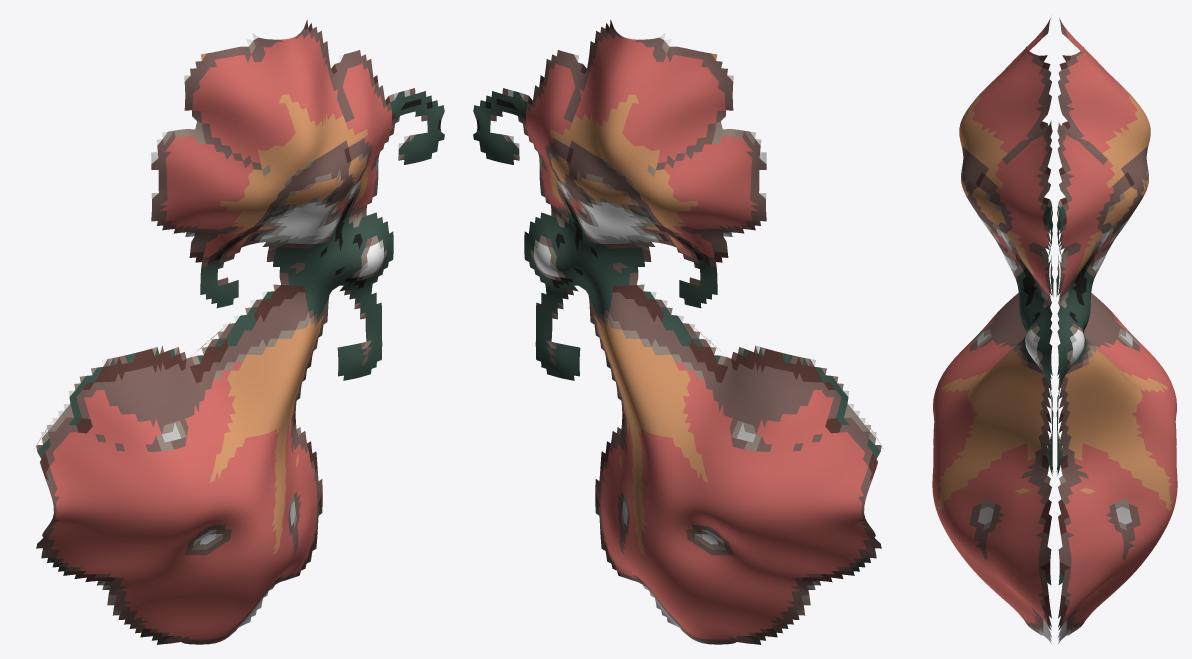
The model's file is trumpetcreeper.glb.
3 renders of one model, left to right at view 1: azimuth 30°, elevation 25°; view 2: azimuth 150°, elevation 25°; view 3: azimuth 270°, elevation 25°, orthographic. The views are drawn at different scales.
Parts seen in each view (by area): view 1: trumpetcreeper; view 2: trumpetcreeper; view 3: trumpetcreeper.
Boxes of the visible parts, x1=… form: trumpetcreeper: x1=34, y1=20, x2=444, y2=644; trumpetcreeper: x1=473, y1=20, x2=883, y2=644; trumpetcreeper: x1=932, y1=18, x2=1177, y2=643.
Bounding box in the file's own units: 566 × 785 × 282.
